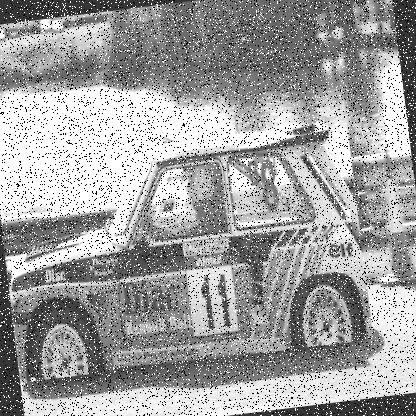Car: (0, 0, 375, 385), (52, 18, 64, 34), (9, 30, 21, 39), (0, 29, 6, 44)
